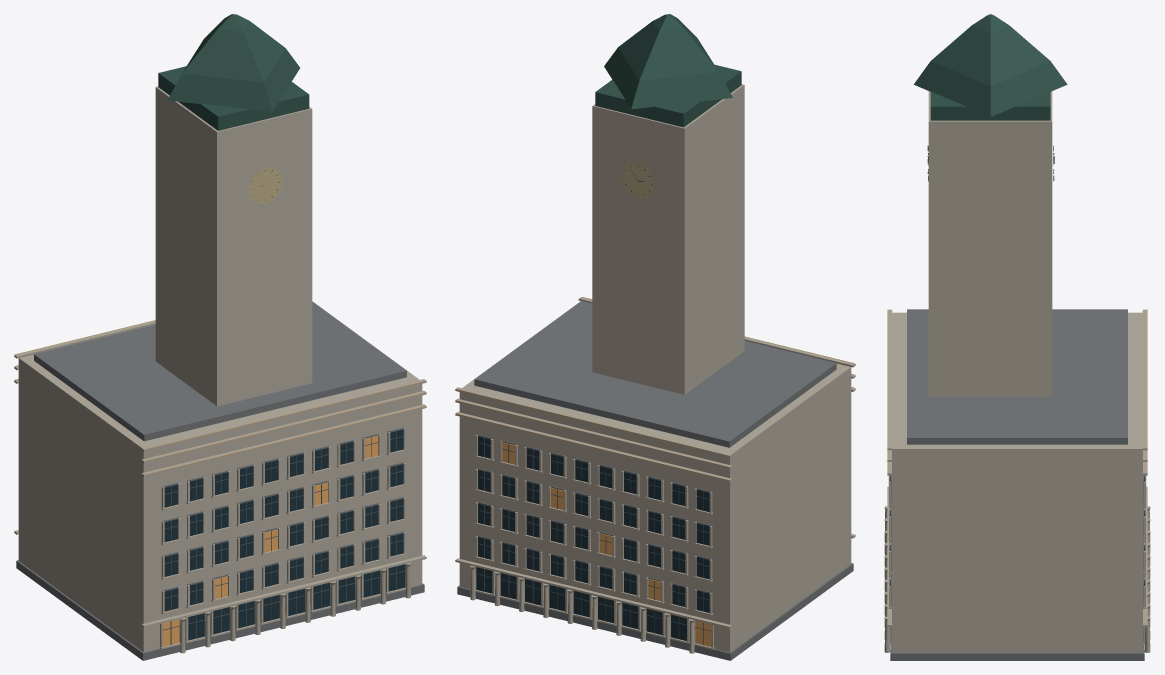
File: customs_near.glb
The picture shows the model from 3 angles, left to right: view 1: azimuth 30°, elevation 25°; view 2: azimuth 150°, elevation 25°; view 3: azimuth 270°, elevation 25°; orthographic projection. The views are drawn at different scales.
Visible parts, largest first — view 1: Limestone, Plinth, GlassDark, Copper, NightWarm, Steel, Clock; view 2: Limestone, Plinth, GlassDark, Copper, NightWarm, Steel, Clock; view 3: Limestone, Plinth, Copper.
Boxes of the visible parts, <box> form: Limestone: <box>14,86,426,653</box>; Plinth: <box>16,301,424,660</box>; GlassDark: <box>164,429,404,640</box>; Copper: <box>158,14,309,130</box>; NightWarm: <box>15,320,425,646</box>; Steel: <box>163,169,404,644</box>; Clock: <box>248,167,282,203</box>; Limestone: <box>455,84,855,653</box>; Plinth: <box>457,301,853,660</box>; GlassDark: <box>476,436,709,640</box>; Copper: <box>595,14,741,127</box>; NightWarm: <box>456,297,854,646</box>; Steel: <box>476,165,710,645</box>; Clock: <box>621,162,654,198</box>; Limestone: <box>884,91,1150,652</box>; Plinth: <box>890,309,1144,660</box>; Copper: <box>914,14,1067,120</box>.
Bounding box in the file's own units: 36.55 × 71 × 29.76.
